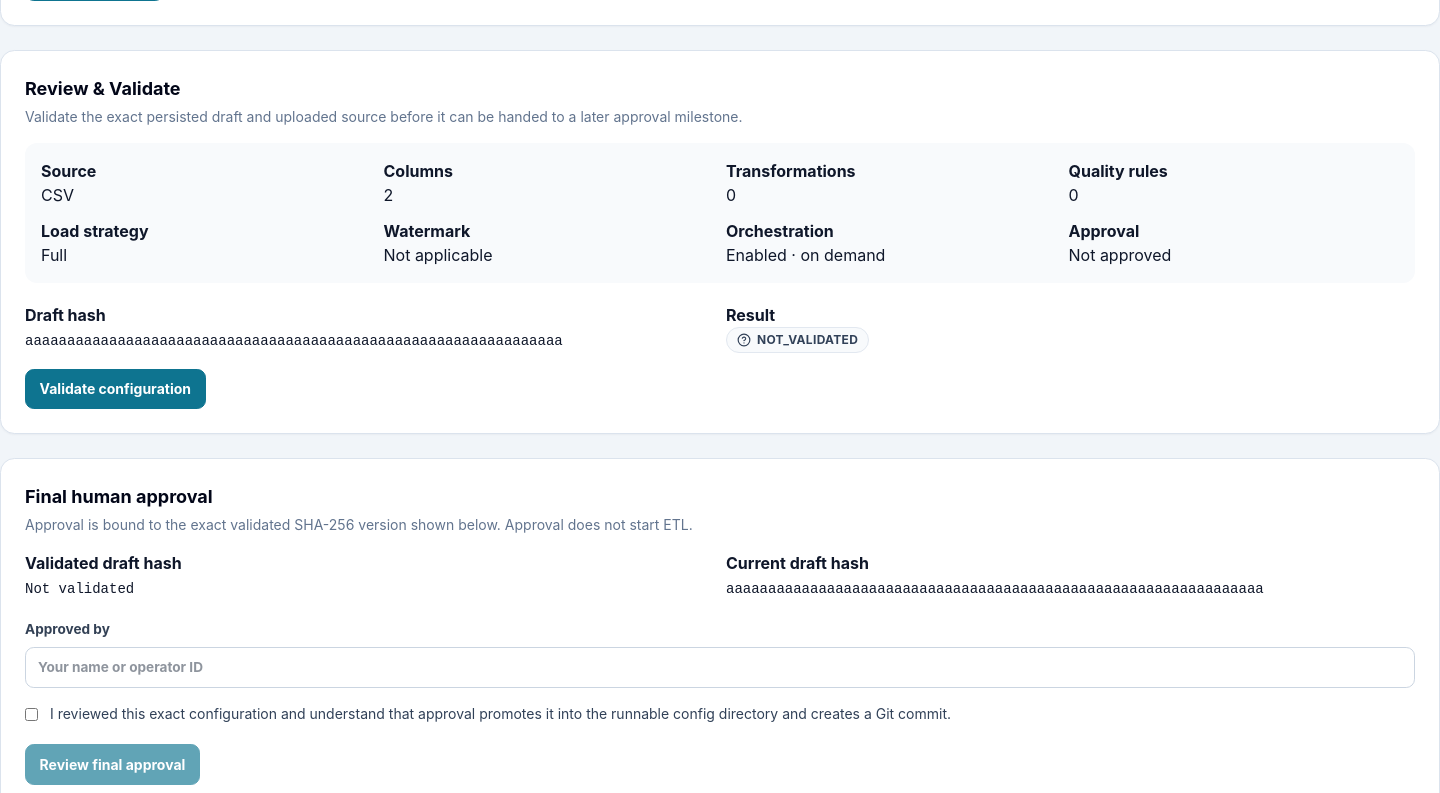
shows actionable validation results and blocks final approval
(page scrolled)
Click the button "Validate configuration": (115, 389) [25,369,206,409]
(page scrolled)
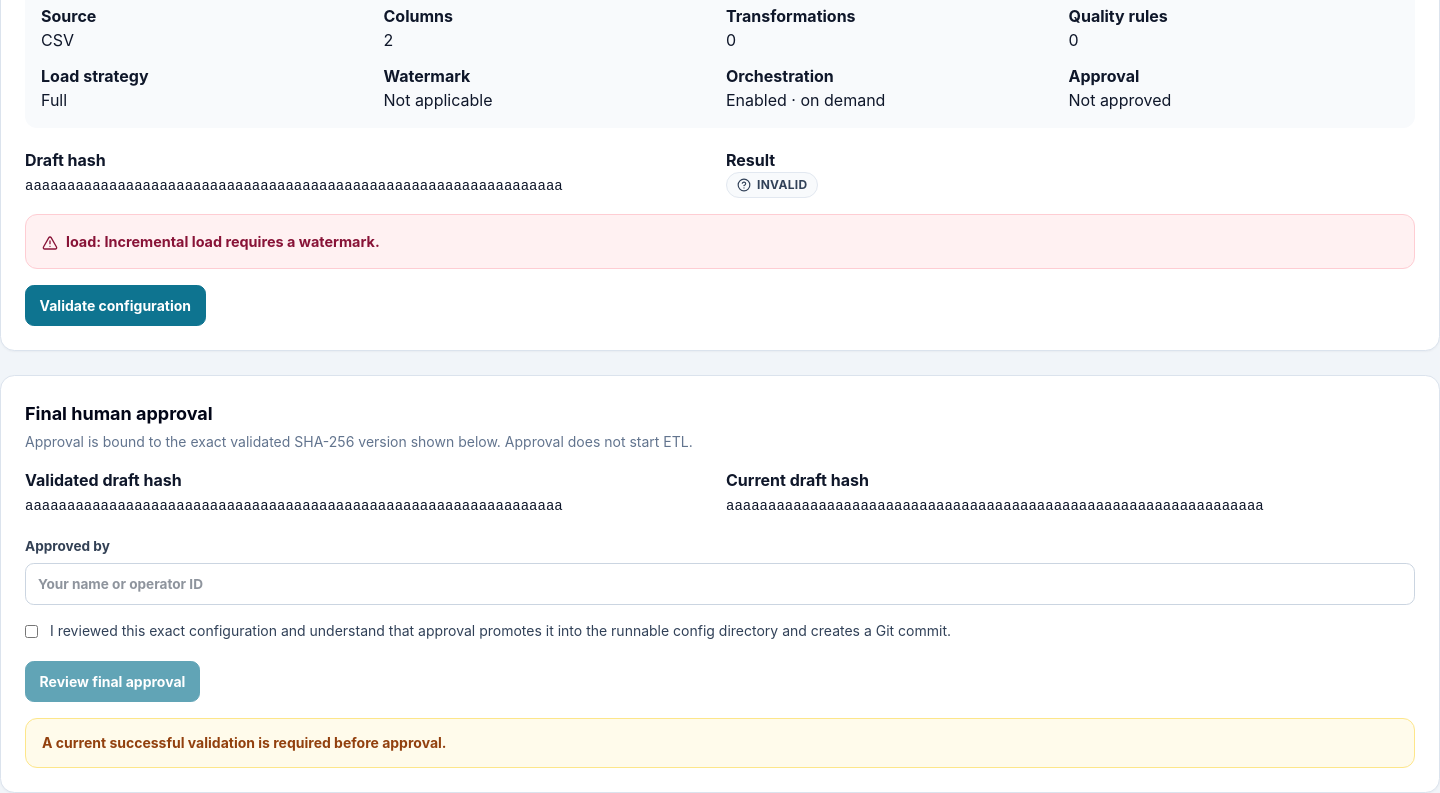
Check: the button "Review final approval" is disabled, box [25,661,200,702]
Check: the list item "load: Incremental load requires a watermark." is shown, box [42,233,380,251]
